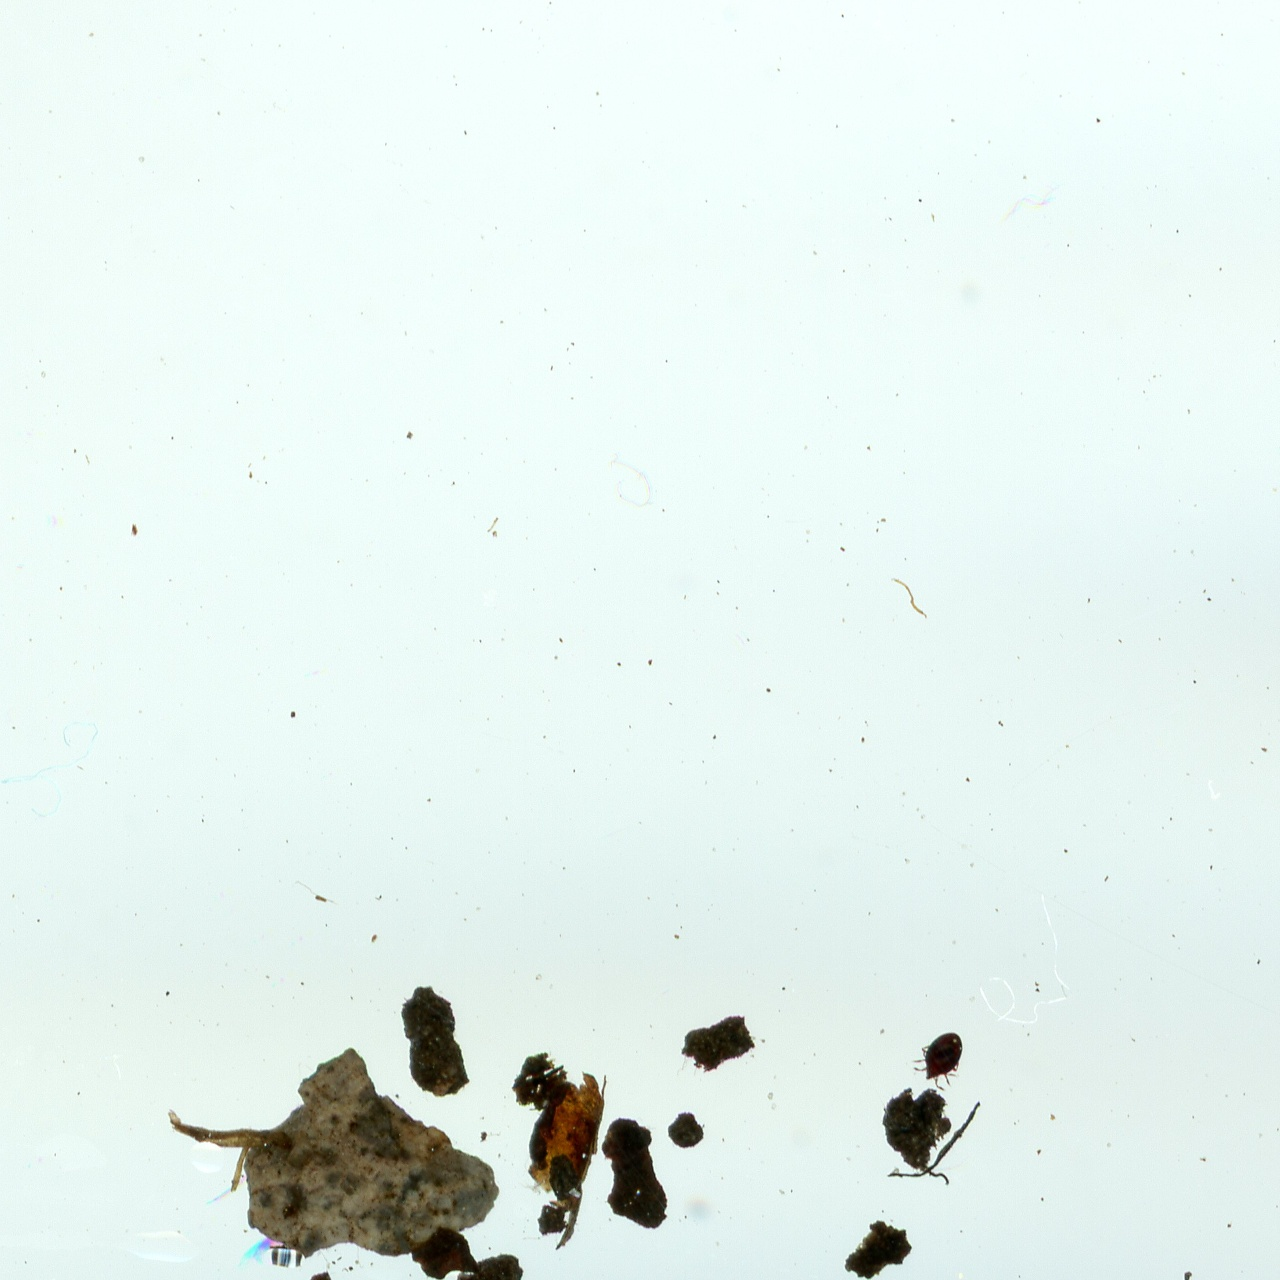arthropod: (910, 1028, 967, 1094)
